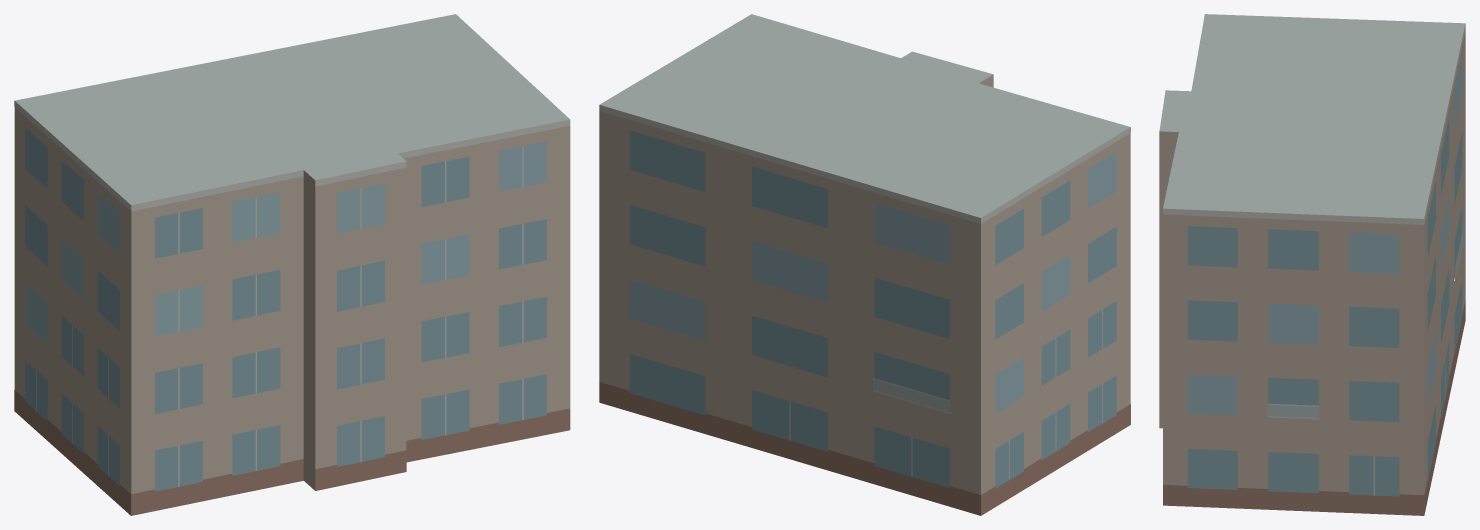
Rendered from survey-upis-33022131.glb.
3 views of the same model, side by side, from view 1: azimuth 30°, elevation 25°; view 2: azimuth 150°, elevation 25°; view 3: azimuth 270°, elevation 25° (orthographic). The views are drawn at different scales.
Parts seen in each view (by area): view 1: survey-upis-33022131.tmp; view 2: survey-upis-33022131.tmp; view 3: survey-upis-33022131.tmp.
Part boxes in pixels (x1,y1,x2,y2): survey-upis-33022131.tmp: [14, 14, 570, 515]; survey-upis-33022131.tmp: [599, 14, 1130, 515]; survey-upis-33022131.tmp: [1159, 14, 1465, 515].
Size of the model in its own units: 18.08 by 12.2 by 11.41.
